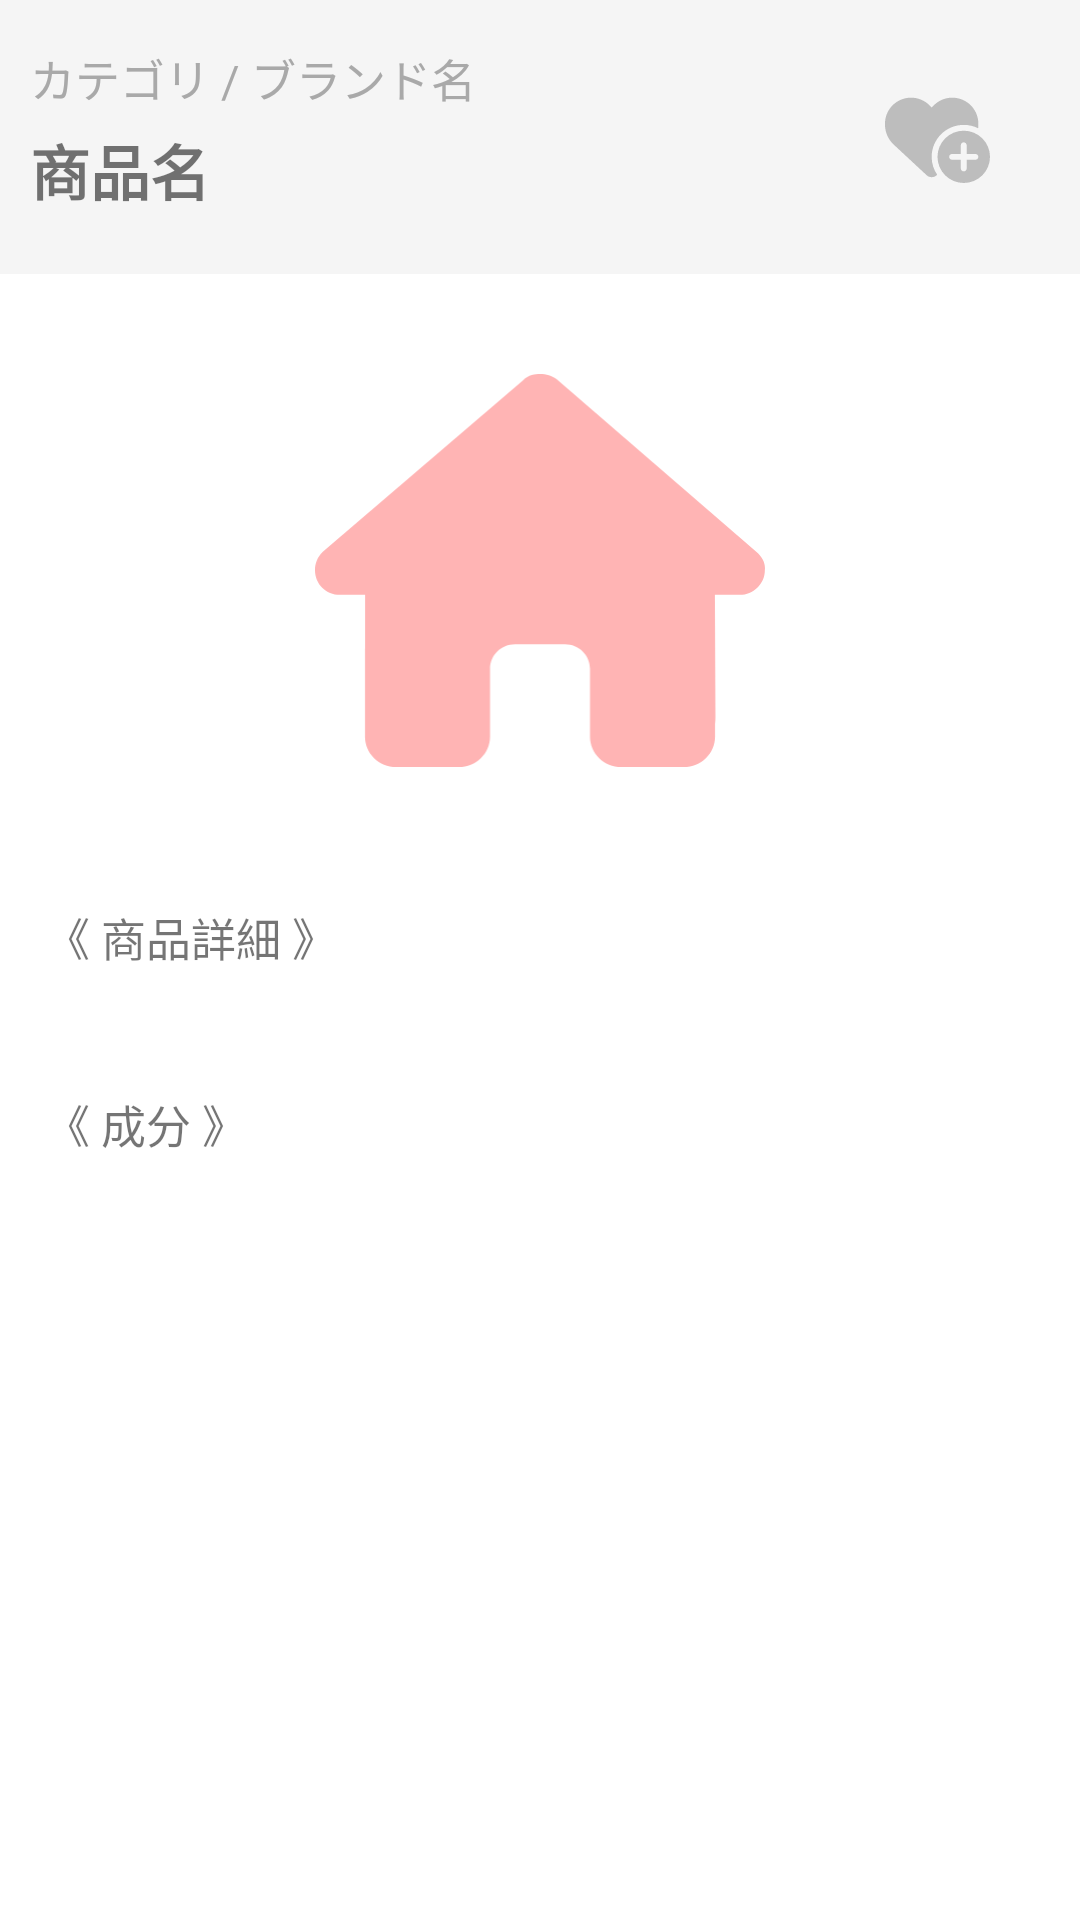

Screen size 1080×1920. Icon name, then its center in pixels as point (x, y):
favorite: point (937, 140)
